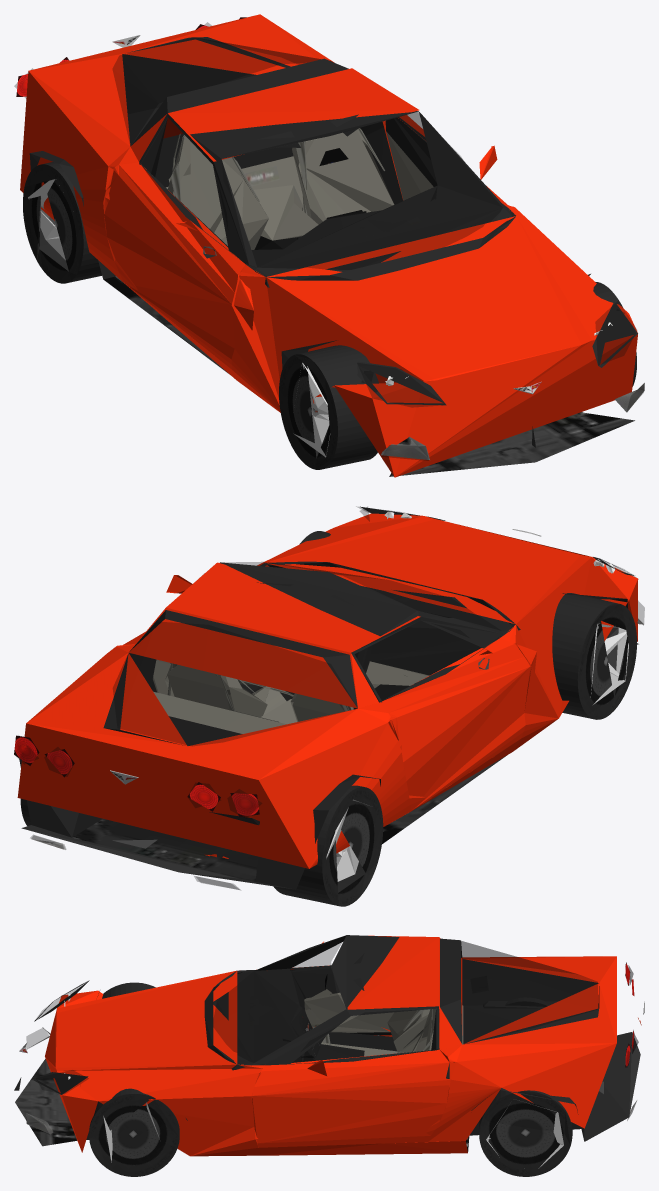
Rendered from corvette_c6.lod1.glb.
3 renders of one model, top to bottom at view 1: azimuth 30°, elevation 25°; view 2: azimuth 150°, elevation 25°; view 3: azimuth 270°, elevation 25°, orthographic. The views are drawn at different scales.
Visible parts, largest first — view 1: c:SM_Base_0000_001_SM_Base_0000_001_MAT_Corvette_C6_2005_Bas (×3), polySurface69_C:Chevrolet_CorvetteGrandSport_2017_Wheel1A_3D, c:SM_FrontKit_0000_001_SM_FrontKit_0000_001_MAT_Corvette_C6_ (×2), c:SM_Interior_0000_001_SM_Interior_0000_001_MAT_Corvette_C6_, c:SM_Hub_L_0000_001_SM_Hub_L_0000_001_MAT_Tire_Hub_018_c:MAT; view 2: c:SM_Base_0000_001_SM_Base_0000_001_MAT_Corvette_C6_2005_Bas (×3), polySurface69_C:Chevrolet_CorvetteGrandSport_2017_Wheel1A_3D, c:SM_FrontKit_0000_001_SM_FrontKit_0000_001_MAT_Corvette_C6_ (×2), c:SM_Hub_L_0000_001_SM_Hub_L_0000_001_MAT_Tire_Hub_018_c:MAT, c:SM_Interior_0000_001_SM_Interior_0000_001_MAT_Corvette_C6_; view 3: c:SM_Base_0000_001_SM_Base_0000_001_MAT_Corvette_C6_2005_Bas (×3), polySurface69_C:Chevrolet_CorvetteGrandSport_2017_Wheel1A_3D, c:SM_FrontKit_0000_001_SM_FrontKit_0000_001_MAT_Corvette_C6_ (×2), c:SM_Interior_0000_001_SM_Interior_0000_001_MAT_Corvette_C6_, c:SM_Hub_L_0000_001_SM_Hub_L_0000_001_MAT_Tire_Hub_018_c:MAT.
Boxes of the visible parts, x1,y1,x2,y2 form: c:SM_Base_0000_001_SM_Base_0000_001_MAT_Corvette_C6_2005_Bas (×3): (14,14,644,477); polySurface69_C:Chevrolet_CorvetteGrandSport_2017_Wheel1A_3D: (23,162,636,469); c:SM_FrontKit_0000_001_SM_FrontKit_0000_001_MAT_Corvette_C6_ (×2): (16,17,644,476); c:SM_Interior_0000_001_SM_Interior_0000_001_MAT_Corvette_C6_: (170,128,422,241); c:SM_Hub_L_0000_001_SM_Hub_L_0000_001_MAT_Tire_Hub_018_c:MAT: (28,179,330,457); c:SM_Base_0000_001_SM_Base_0000_001_MAT_Corvette_C6_2005_Bas (×3): (17,506,644,889); polySurface69_C:Chevrolet_CorvetteGrandSport_2017_Wheel1A_3D: (20,531,636,906); c:SM_FrontKit_0000_001_SM_FrontKit_0000_001_MAT_Corvette_C6_ (×2): (14,509,643,881); c:SM_Hub_L_0000_001_SM_Hub_L_0000_001_MAT_Tire_Hub_018_c:MAT: (326,623,628,881); c:SM_Interior_0000_001_SM_Interior_0000_001_MAT_Corvette_C6_: (167,586,421,722); c:SM_Base_0000_001_SM_Base_0000_001_MAT_Corvette_C6_2005_Bas (×3): (14,935,641,1156); polySurface69_C:Chevrolet_CorvetteGrandSport_2017_Wheel1A_3D: (89,982,572,1176); c:SM_FrontKit_0000_001_SM_FrontKit_0000_001_MAT_Corvette_C6_ (×2): (15,962,636,1151); c:SM_Interior_0000_001_SM_Interior_0000_001_MAT_Corvette_C6_: (248,974,488,1057); c:SM_Hub_L_0000_001_SM_Hub_L_0000_001_MAT_Tire_Hub_018_c:MAT: (103,1100,563,1168).
Size of the model in its own units: 0.0198 by 0.0118 by 0.0435.
Materials: 11 (9 with a texture image).
